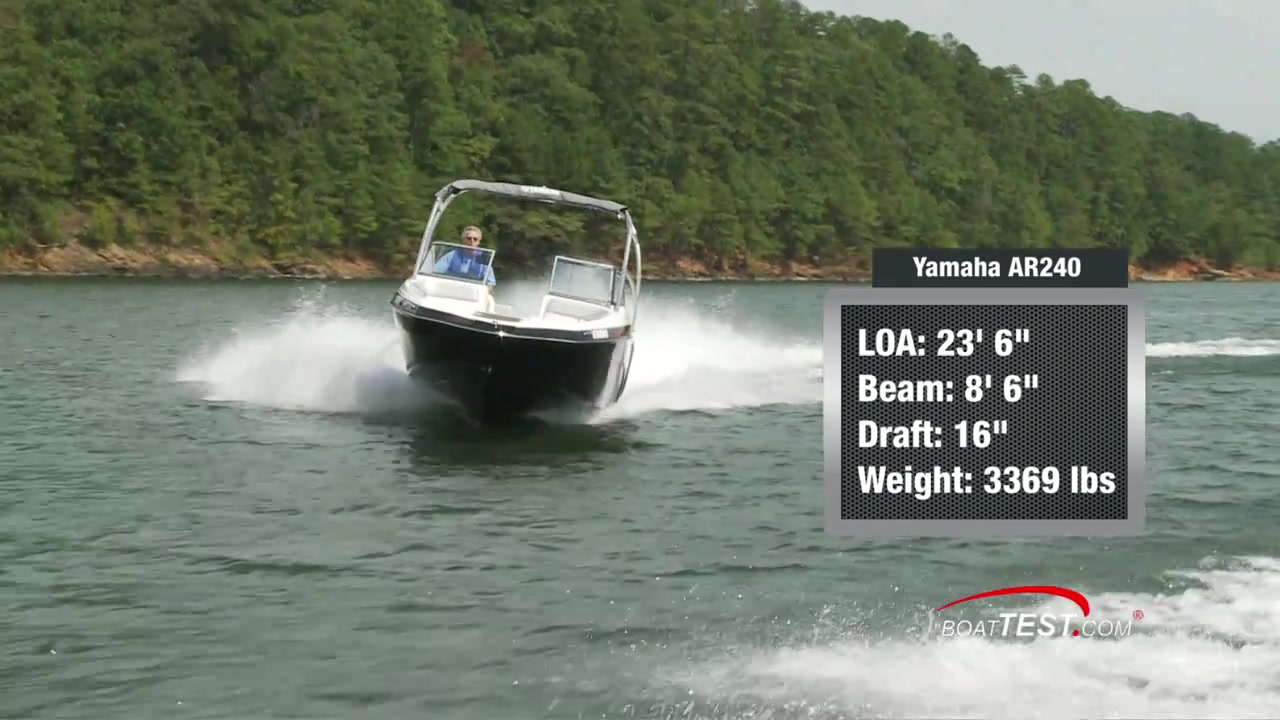boat: (389, 169, 649, 427)
